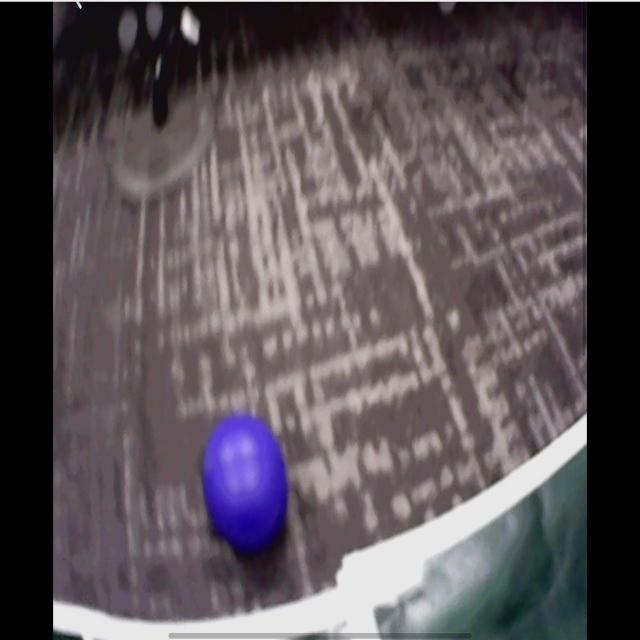ball: (202, 415, 289, 552)
